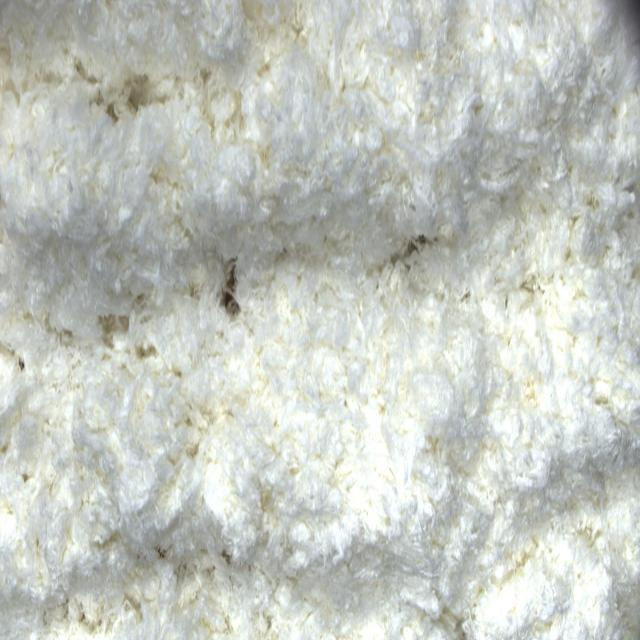dust: (215, 257, 242, 321)
